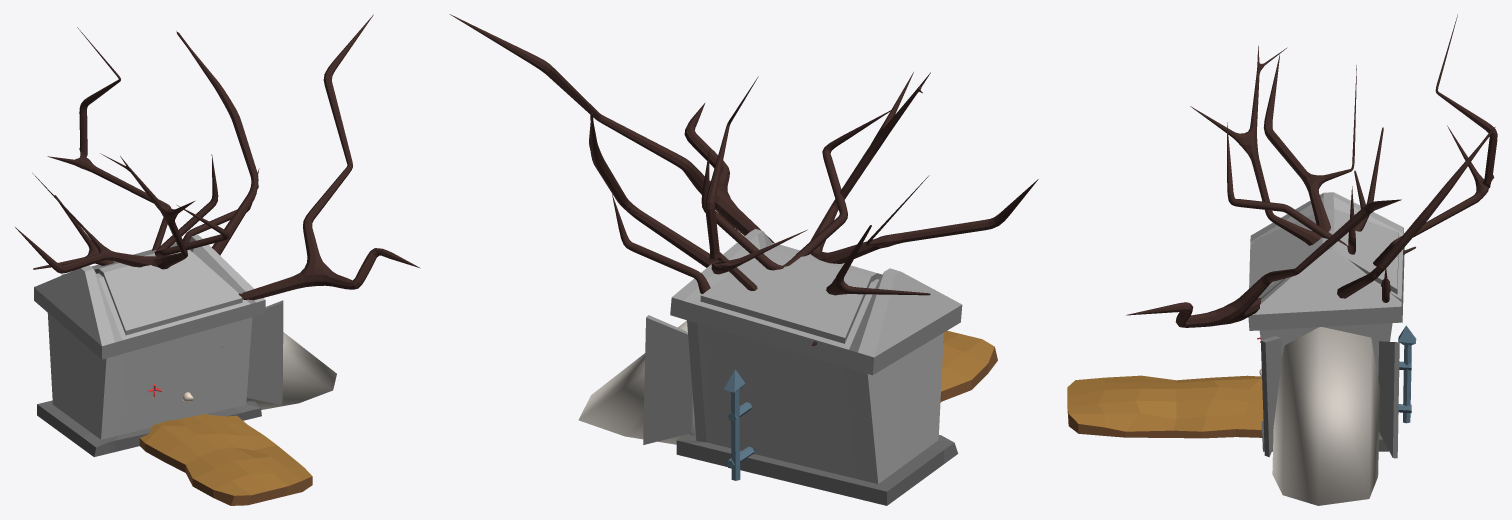
Rendered from SkeletonEnvironments2.fbx.
The picture shows the model from 3 angles, left to right: view 1: azimuth 30°, elevation 25°; view 2: azimuth 150°, elevation 25°; view 3: azimuth 270°, elevation 25°; orthographic projection. The views are drawn at different scales.
Parts seen in each view (by area): view 1: MezarEv, Agac2, Mezar_Kumu, LightObject, Agac1; view 2: MezarEv, Agac2, Agac1, LightObject, Mezar_Kumu, DemirDonen; view 3: MezarEv, LightObject, Agac2, Mezar_Kumu, Agac1, DemirDonen.
Part boxes in pixels (x1,y1,x2,y2): MezarEv: (34, 234, 283, 456); Agac2: (15, 14, 420, 300); Mezar_Kumu: (139, 414, 312, 505); LightObject: (246, 332, 336, 409); Agac1: (33, 154, 259, 269); MezarEv: (643, 229, 962, 505); Agac2: (449, 14, 1038, 290); Agac1: (612, 108, 930, 345); LightObject: (578, 320, 695, 444); Mezar_Kumu: (940, 330, 997, 402); DemirDonen: (724, 369, 755, 480); MezarEv: (1248, 192, 1404, 458); LightObject: (1272, 327, 1379, 505); Agac2: (1126, 14, 1497, 327); Mezar_Kumu: (1067, 375, 1263, 438); Agac1: (1227, 122, 1415, 302); DemirDonen: (1398, 325, 1416, 423).
Bounding box in the file's own units: 4.21 × 3.4 × 3.42.
1 material, 1 textured.
